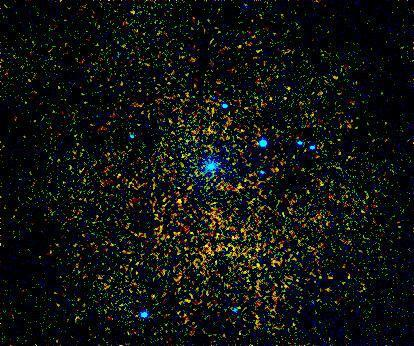star: (164, 185, 194, 215)
